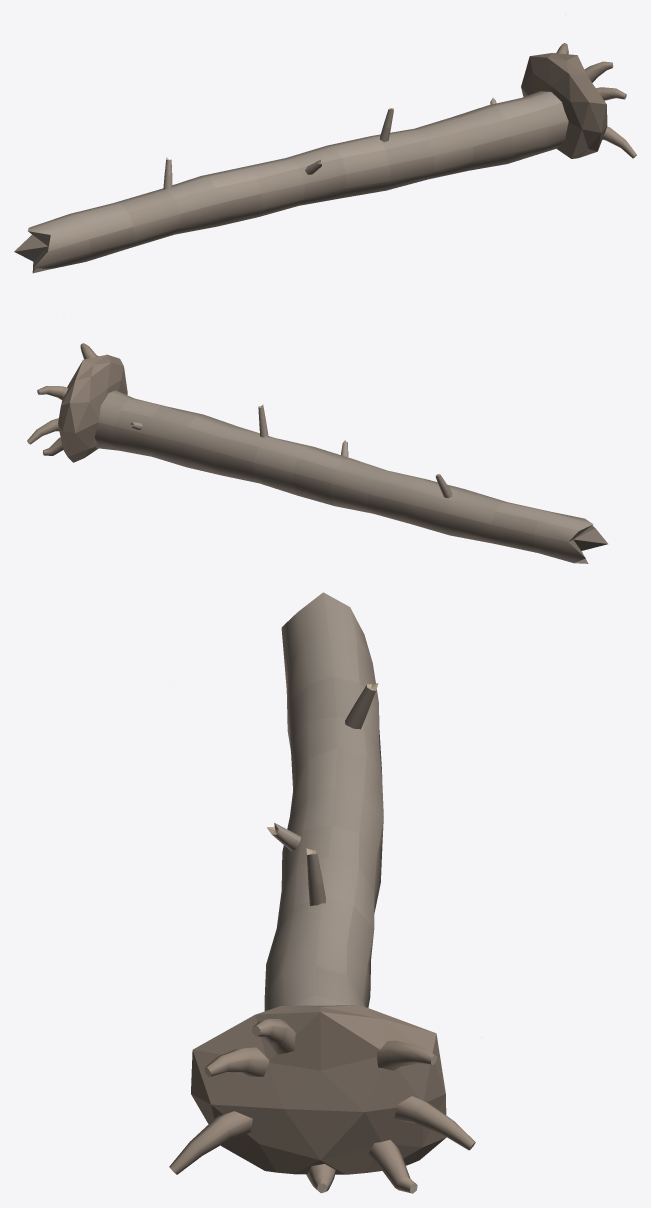
Rendered from MossyLog_bark.glb.
3 renders of one model, top to bottom at view 1: azimuth 30°, elevation 25°; view 2: azimuth 150°, elevation 25°; view 3: azimuth 270°, elevation 25°, orthographic. The views are drawn at different scales.
Parts seen in each view (by area): view 1: MossyLog_bark; view 2: MossyLog_bark; view 3: MossyLog_bark.
Boxes of the visible parts, box(x1,y1,x2,y2) form: MossyLog_bark: box(14, 14, 636, 273); MossyLog_bark: box(27, 343, 607, 563); MossyLog_bark: box(169, 592, 481, 1193).
Size of the model in its own units: 26.3 by 4.11 by 6.54.
